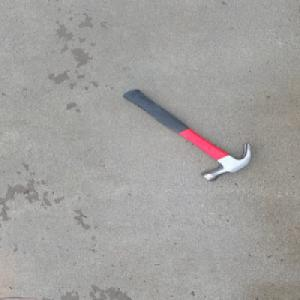Hammer: (120, 88, 254, 182)
